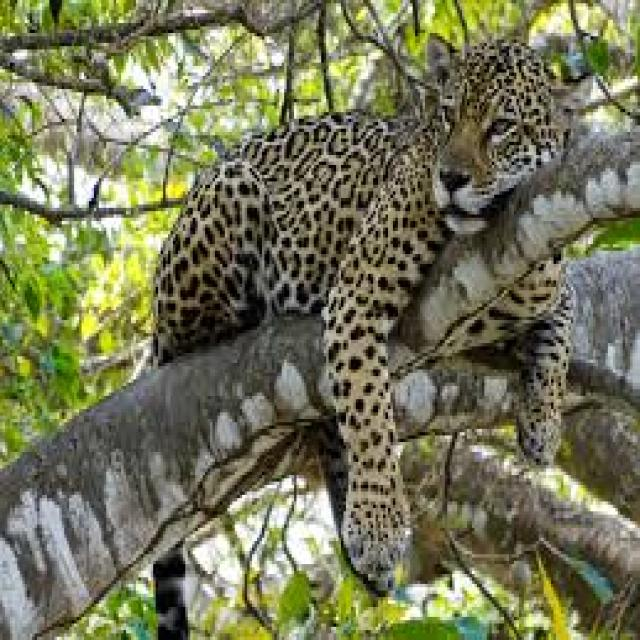Jaguar: (158, 43, 591, 564)
